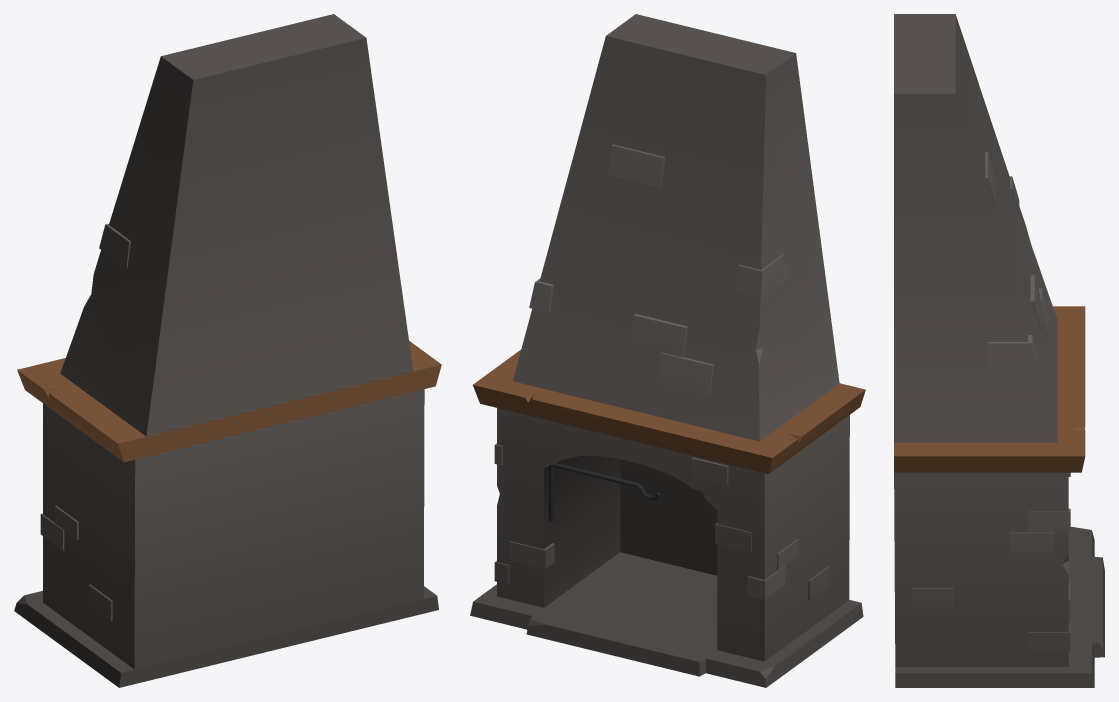
The model's file is Fireplace.fbx.
3 views of the same model, side by side, from view 1: azimuth 30°, elevation 25°; view 2: azimuth 150°, elevation 25°; view 3: azimuth 270°, elevation 25° (orthographic). The views are drawn at different scales.
Visible parts, largest first — view 1: Fireplace; view 2: Fireplace, Fireplace_Hook; view 3: Fireplace.
Part boxes in pixels (<box>): Fireplace: <box>14,14,441,687</box>; Fireplace: <box>470,14,865,687</box>; Fireplace_Hook: <box>549,463,660,521</box>; Fireplace: <box>894,14,1104,687</box>.
Size of the model in its own units: 139 by 242 by 82.72.
